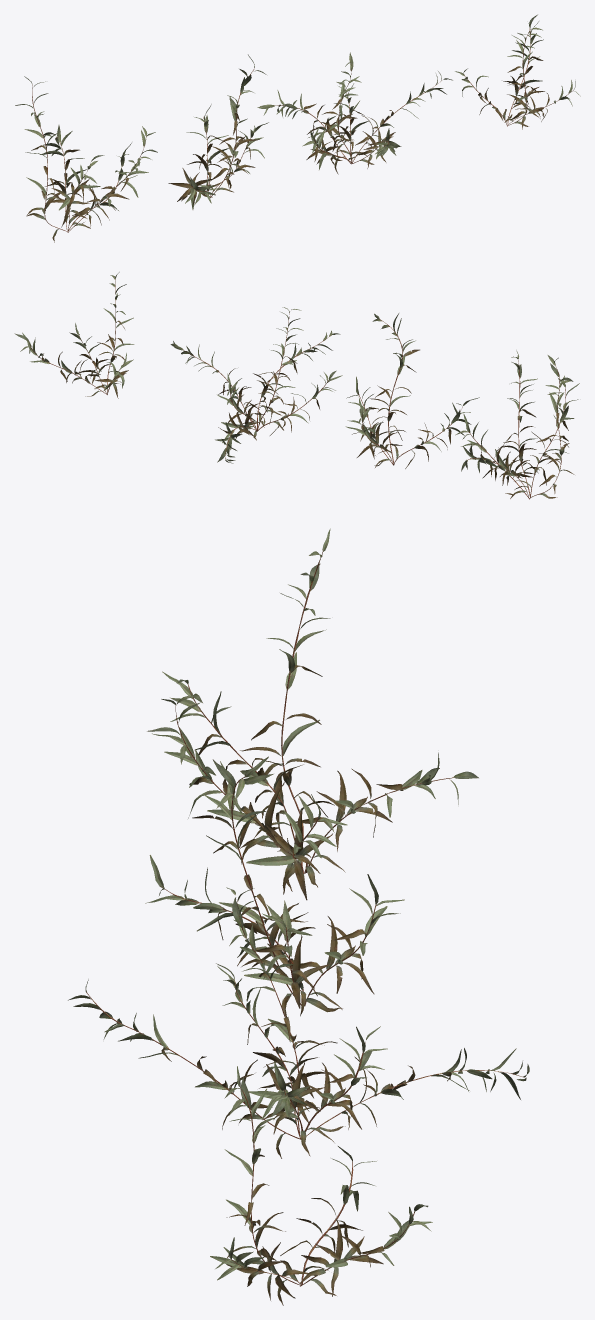
File: shrub_02.glb
The picture shows the model from 3 angles, top to bottom: view 1: azimuth 30°, elevation 25°; view 2: azimuth 150°, elevation 25°; view 3: azimuth 270°, elevation 25°; orthographic projection. The views are drawn at different scales.
Visible parts, largest first — view 1: shrub_02_a; view 2: shrub_02_a; view 3: shrub_02_a.
Boxes of the visible parts, <box> form: shrub_02_a: <box>15,14,580,242</box>; shrub_02_a: <box>14,272,579,499</box>; shrub_02_a: <box>68,528,529,1305</box>.
Size of the model in its own units: 6.05 by 1.7 by 2.29.
Materials: 1 (1 with a texture image).
